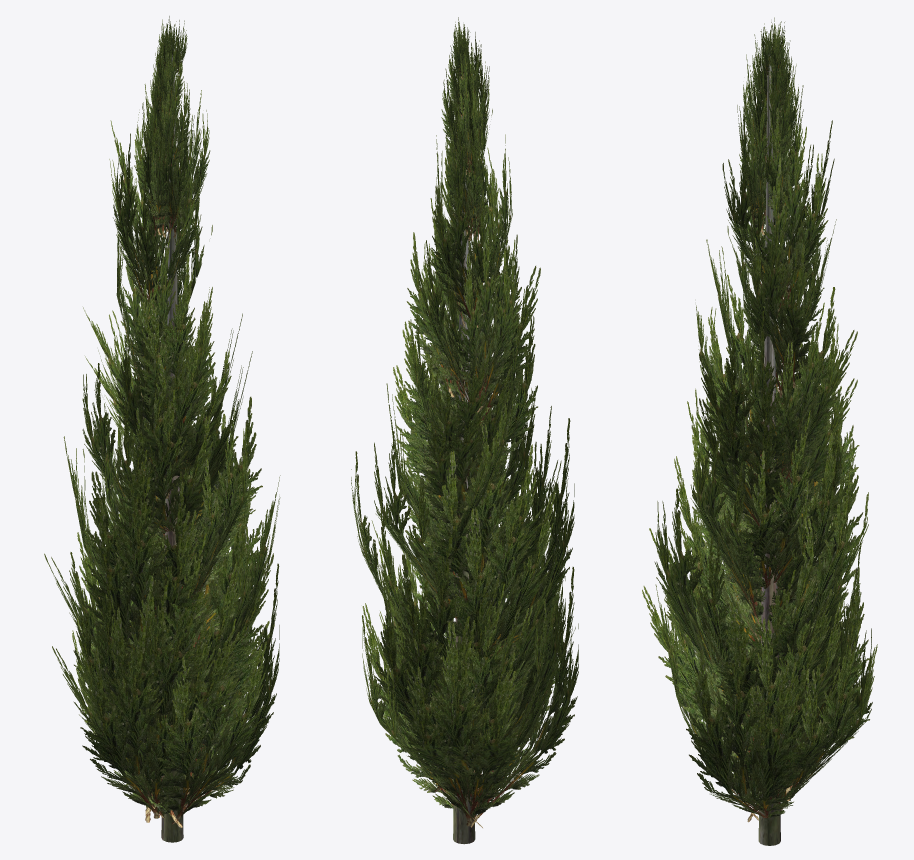
Rendered from cypress.dae.
The picture shows the model from 3 angles, left to right: view 1: azimuth 30°, elevation 25°; view 2: azimuth 150°, elevation 25°; view 3: azimuth 270°, elevation 25°; orthographic projection.
Parts seen in each view (by area): view 1: meshU3D; view 2: meshU3D; view 3: meshU3D.
Boxes of the visible parts, x1,y1,x2,y2 form: meshU3D: (44,16,280,842); meshU3D: (351,17,578,844); meshU3D: (642,17,877,845).
Bounding box in the file's own units: 15.36 × 52.2 × 16.3.
Materials: 1 (1 with a texture image).
